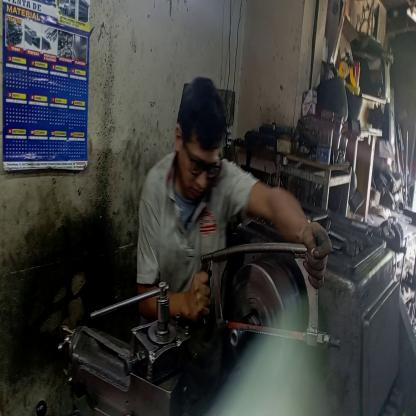lentes: (180, 136, 223, 189)
